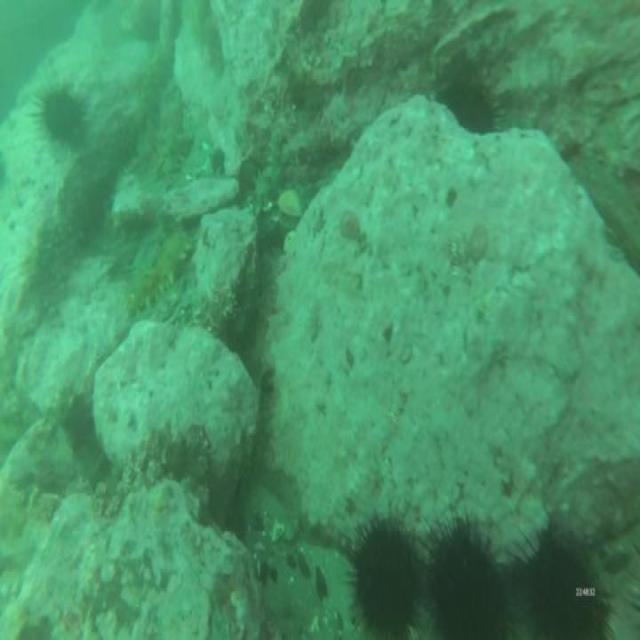echinus: (510, 518, 615, 640), (421, 507, 511, 640), (342, 504, 426, 640), (434, 78, 504, 138), (29, 87, 89, 156)
holothurian: (124, 221, 200, 326), (250, 103, 300, 221), (149, 74, 191, 191), (184, 0, 227, 84)
